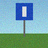sign: (16, 3, 33, 37)
